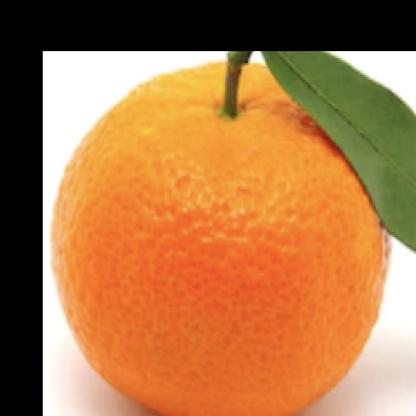fresh: (56, 55, 389, 416)
